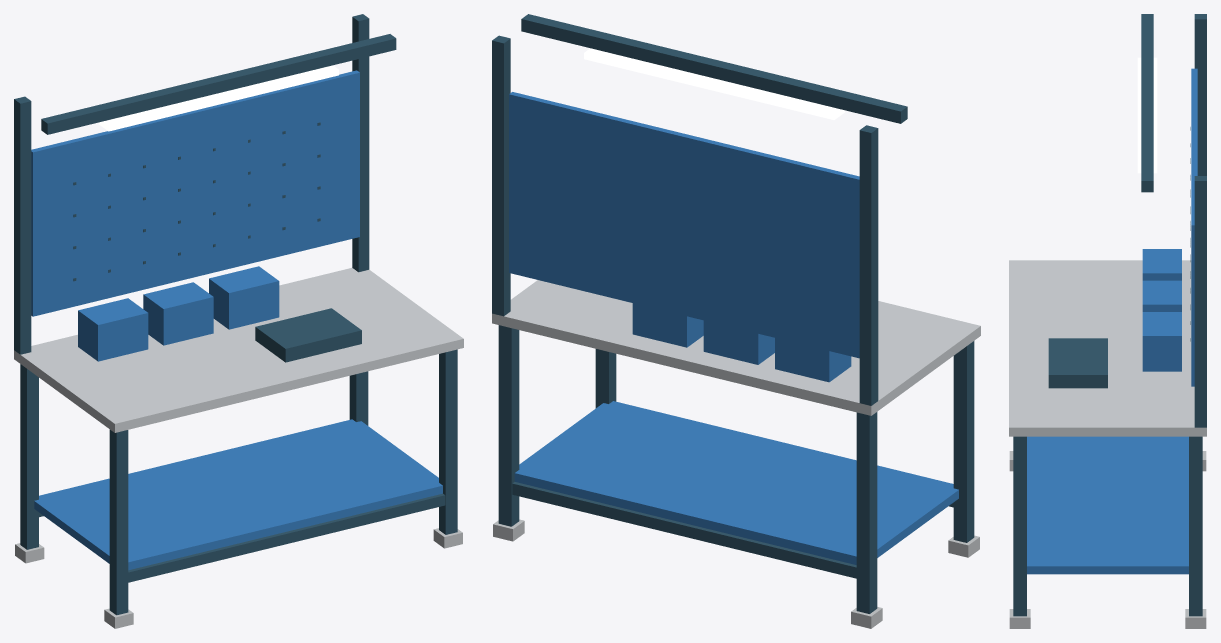
File: assemble.glb
3 views of the same model, side by side, from view 1: azimuth 30°, elevation 25°; view 2: azimuth 150°, elevation 25°; view 3: azimuth 270°, elevation 25° (orthographic). The views are drawn at different scales.
Visible parts, largest first — view 1: tool panel, lower shelf, worktop, steel support (×4), component bin (×3), upright tool support (×2), overhead rail, base cross rail, assembly fixture, task light; view 2: tool panel, lower shelf, worktop, steel support (×4), upright tool support (×2), overhead rail, component bin (×3), base cross rail, task light; view 3: worktop, lower shelf, steel support (×2), upright tool support (×2), component bin (×3), assembly fixture, overhead rail, tool panel, task light, levelling foot (×2).
Boxes of the visible parts, left/top/right/bottom form: tool panel: left=31, top=70, right=359, bottom=316; lower shelf: left=34, top=419, right=442, bottom=570; worktop: left=14, top=268, right=463, bottom=432; steel support (×4): left=20, top=349, right=457, bottom=615; component bin (×3): left=78, top=266, right=279, bottom=361; upright tool support (×2): left=14, top=14, right=369, bottom=354; overhead rail: left=41, top=34, right=396, bottom=134; base cross rail: left=128, top=493, right=445, bottom=582; assembly fixture: left=255, top=308, right=361, bottom=362; task light: left=98, top=65, right=338, bottom=131; tool panel: left=509, top=92, right=859, bottom=358; lower shelf: left=514, top=401, right=958, bottom=564; worktop: left=492, top=280, right=980, bottom=415; steel support (×4): left=498, top=325, right=974, bottom=613; upright tool support (×2): left=492, top=35, right=878, bottom=405; overhead rail: left=521, top=14, right=907, bottom=123; component bin (×3): left=632, top=303, right=851, bottom=382; base cross rail: left=512, top=482, right=856, bottom=578; task light: left=584, top=48, right=845, bottom=119; worktop: left=1009, top=260, right=1206, bottom=436; lower shelf: left=1027, top=436, right=1188, bottom=574; steel support (×2): left=1013, top=436, right=1202, bottom=616; upright tool support (×2): left=1194, top=14, right=1206, bottom=427; component bin (×3): left=1142, top=249, right=1181, bottom=371; assembly fixture: left=1048, top=338, right=1107, bottom=388; overhead rail: left=1141, top=14, right=1153, bottom=192; tool panel: left=1191, top=68, right=1197, bottom=386; task light: left=1137, top=57, right=1157, bottom=173; levelling foot (×2): left=1009, top=609, right=1206, bottom=628.
Size of the model in its own units: 1.6 by 2 by 0.8.
